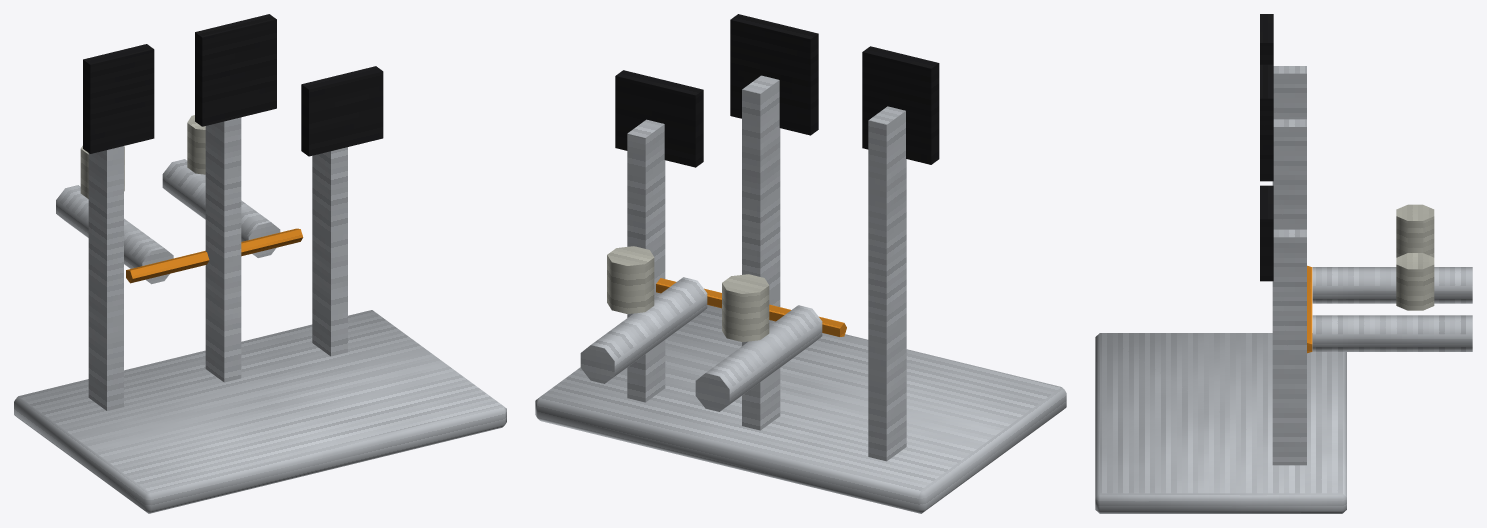
Rendered from balanco_freio_n3.glb.
3 renders of one model, left to right at view 1: azimuth 30°, elevation 25°; view 2: azimuth 150°, elevation 25°; view 3: azimuth 270°, elevation 25°, orthographic. The views are drawn at different scales.
Parts seen in each view (by area): view 1: balanco_freio_n3; view 2: balanco_freio_n3; view 3: balanco_freio_n3.
Part boxes in pixels (<box>): balanco_freio_n3: <box>14,14,506,513</box>; balanco_freio_n3: <box>535,14,1066,513</box>; balanco_freio_n3: <box>1095,14,1472,513</box>.
Bounding box in the file's own units: 0.34 × 0.34 × 0.33.
Materials: 2 (2 with a texture image).
